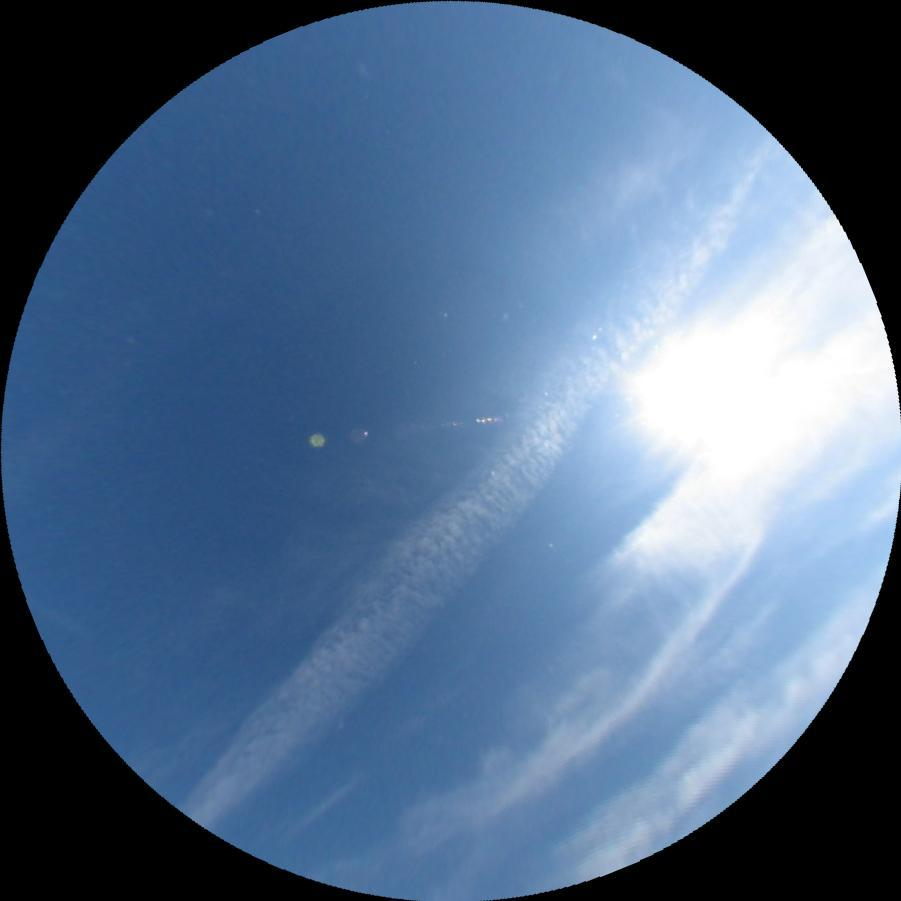contrail veryold: (175, 112, 809, 854)
sun: (636, 323, 788, 465)
